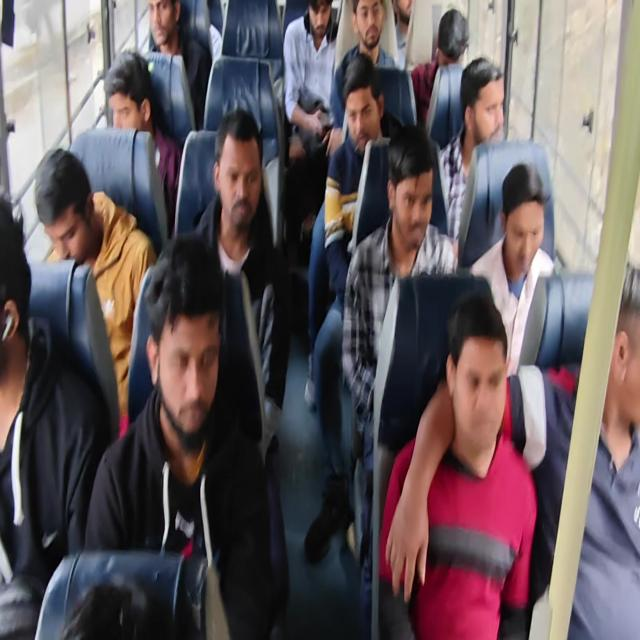person: (2, 1, 638, 638), (84, 233, 277, 638), (340, 124, 458, 636), (379, 291, 546, 638), (304, 52, 404, 562), (0, 193, 110, 638), (544, 260, 640, 639), (34, 147, 157, 438), (192, 107, 290, 465), (468, 161, 554, 377), (103, 49, 182, 236), (282, 0, 338, 245), (436, 55, 505, 248), (326, 0, 398, 156), (145, 0, 212, 127), (410, 7, 469, 127), (391, 0, 414, 70)
